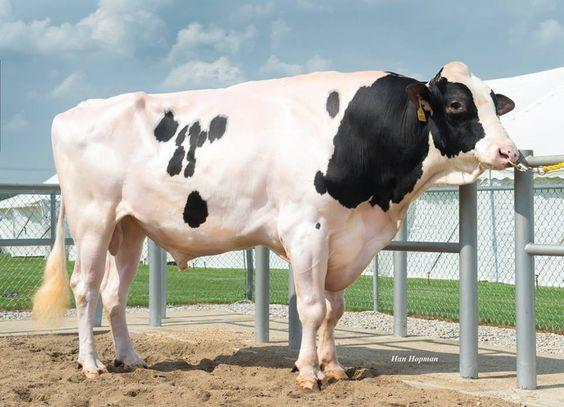cow: (17, 32, 540, 380)
